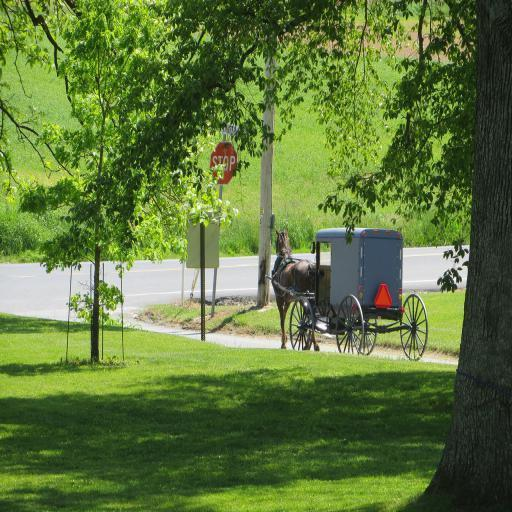horse: (271, 224, 318, 352)
